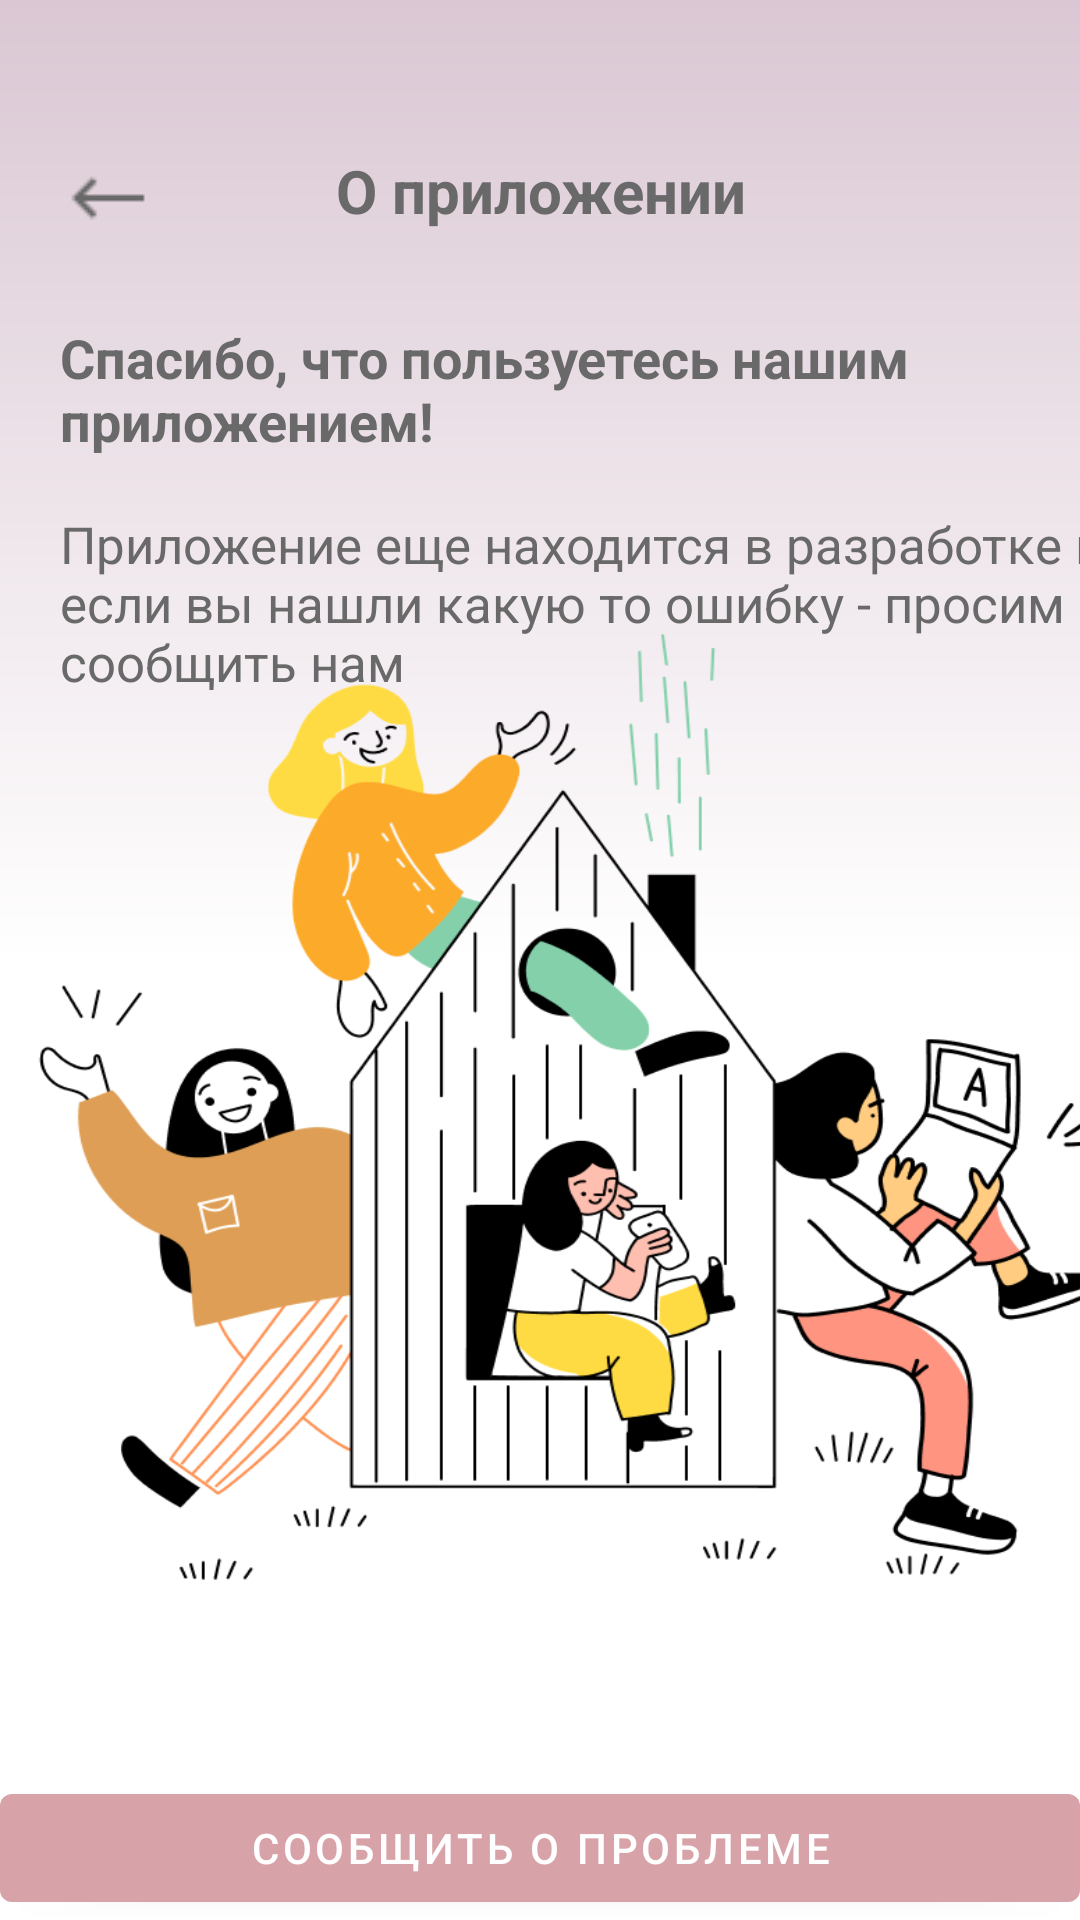

Screen size 1080 x 1920. Icon name, then its box in pixels as (x1, y1, x2, y2):
left back: (72, 177, 145, 219)
